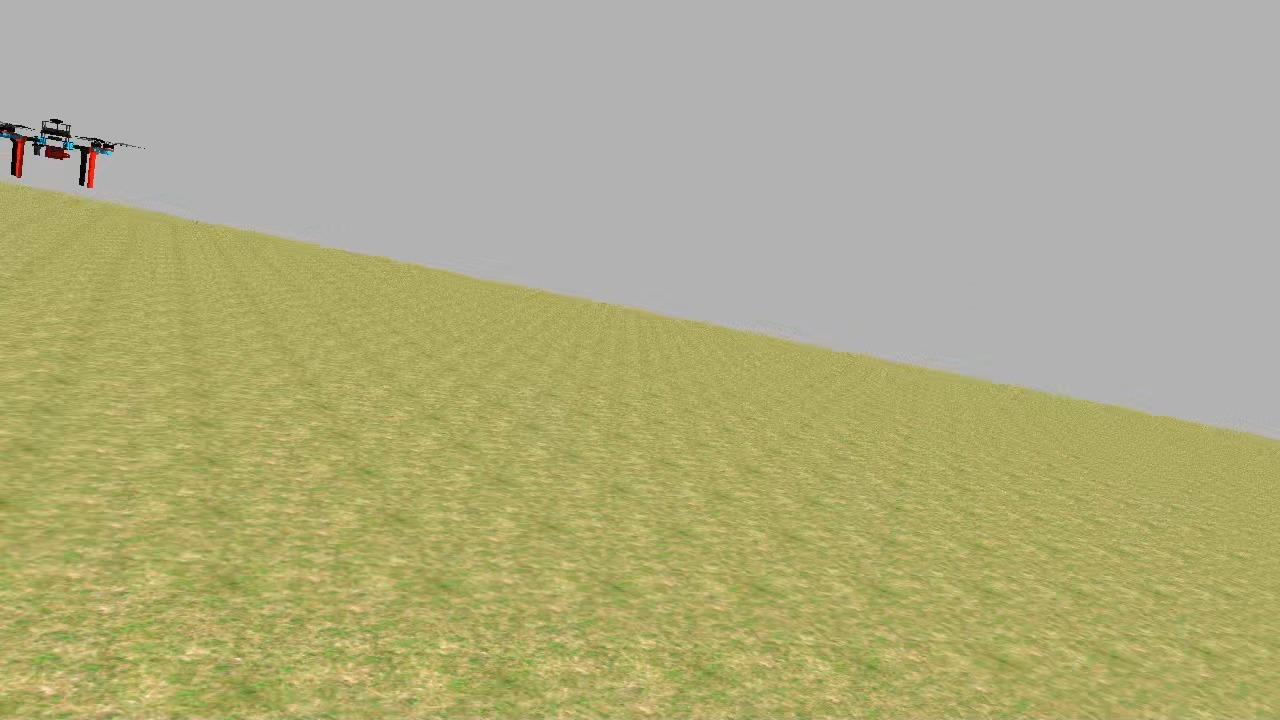UAV: (0, 118, 128, 188)
